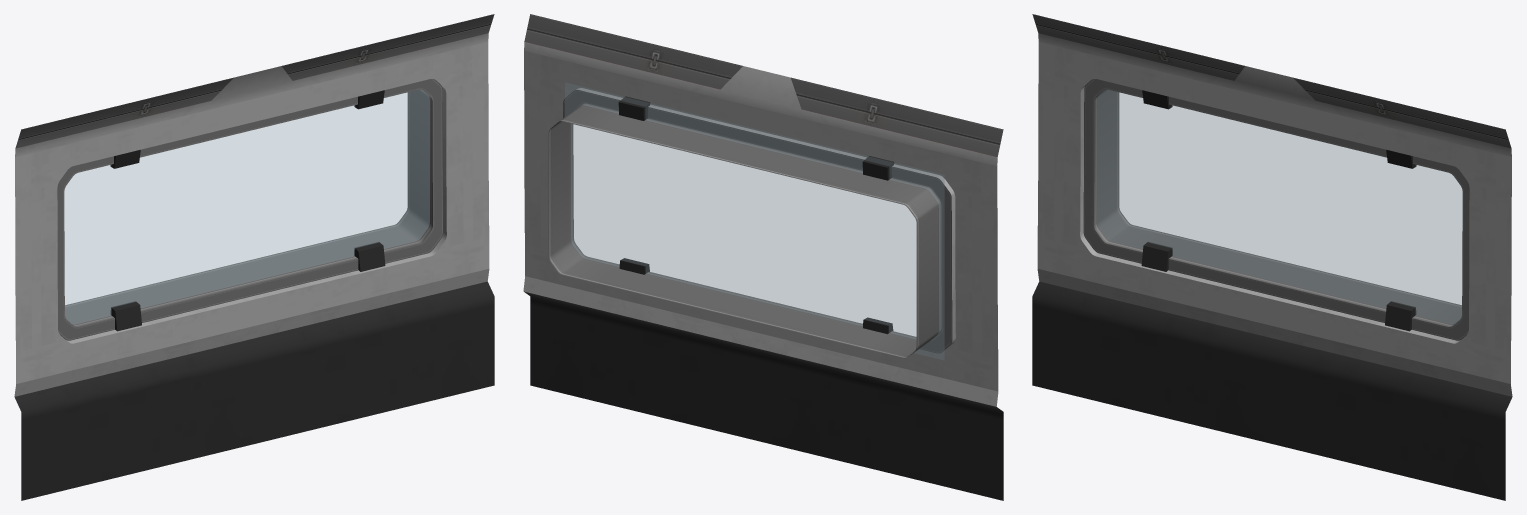
The model's file is sf_wall_astra_flat_window.glb.
The picture shows the model from 3 angles, left to right: view 1: azimuth 30°, elevation 25°; view 2: azimuth 150°, elevation 25°; view 3: azimuth 330°, elevation 25°; orthographic projection.
Parts seen in each view (by area): view 1: WallAstra_Straight_Flat_Window; view 2: WallAstra_Straight_Flat_Window; view 3: WallAstra_Straight_Flat_Window.
Part boxes in pixels (x1,y1,x2,y2): WallAstra_Straight_Flat_Window: [14, 14, 494, 500]; WallAstra_Straight_Flat_Window: [523, 14, 1003, 500]; WallAstra_Straight_Flat_Window: [1032, 14, 1512, 500].
Size of the model in its own units: 4 by 3 by 0.5015.
4 materials, 3 textured.
